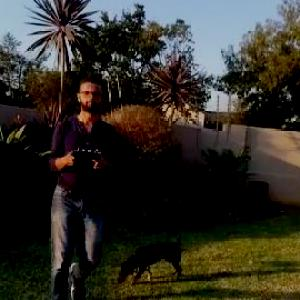follow: (43, 71, 120, 299)
null: (113, 227, 190, 286)
